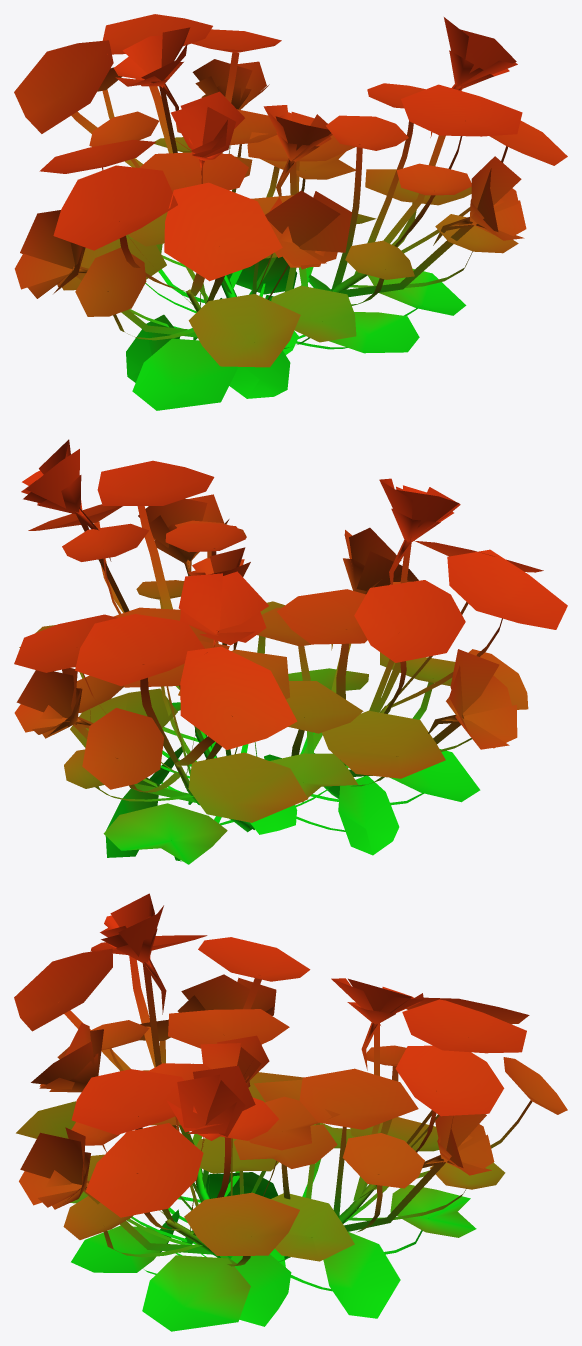
File: Var8_LOD0.fbx
The picture shows the model from 3 angles, top to bottom: view 1: azimuth 30°, elevation 25°; view 2: azimuth 150°, elevation 25°; view 3: azimuth 270°, elevation 25°; orthographic projection. The views are drawn at different scales.
Visible parts, largest first — view 1: _8825_Var8_LOD0; view 2: _8825_Var8_LOD0; view 3: _8825_Var8_LOD0.
Part boxes in pixels (x1,y1,x2,y2): _8825_Var8_LOD0: [14, 14, 567, 410]; _8825_Var8_LOD0: [14, 439, 567, 864]; _8825_Var8_LOD0: [14, 893, 567, 1331].
Bounding box in the file's own units: 43.43 × 26.81 × 40.54.
